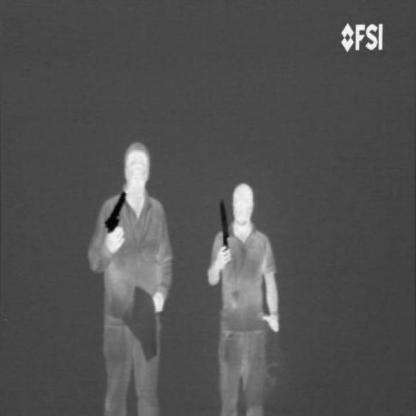weapon: (104, 188, 130, 235)
